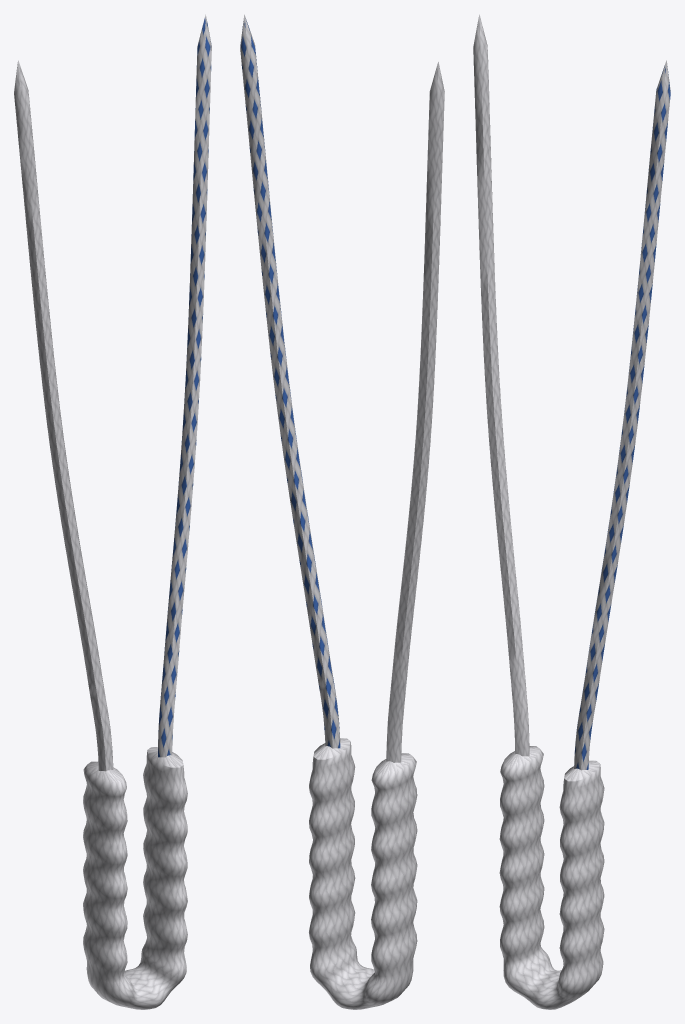
The model's file is s9_sutureloc_2p8x18_lod1.glb.
3 views of the same model, side by side, from view 1: azimuth 30°, elevation 25°; view 2: azimuth 150°, elevation 25°; view 3: azimuth 330°, elevation 25° (orthographic). The views are drawn at different scales.
Visible parts, largest first — view 1: s9_sutureloc_2p8x18; view 2: s9_sutureloc_2p8x18; view 3: s9_sutureloc_2p8x18.
Part boxes in pixels (x1,y1,x2,y2): s9_sutureloc_2p8x18: [14, 14, 211, 1009]; s9_sutureloc_2p8x18: [240, 14, 444, 1009]; s9_sutureloc_2p8x18: [473, 14, 670, 1009].
Size of the model in its own units: 0.00822 by 0.0378 by 0.00305.
Materials: 2 (2 with a texture image).
